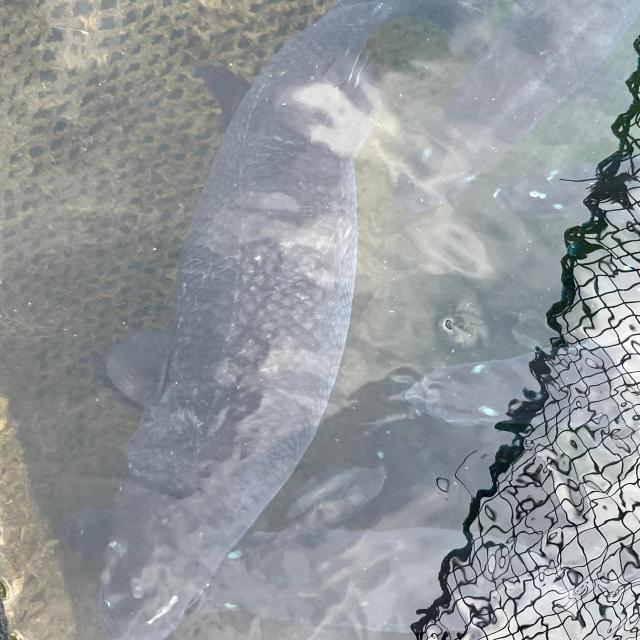ikan: (80, 24, 390, 638)
